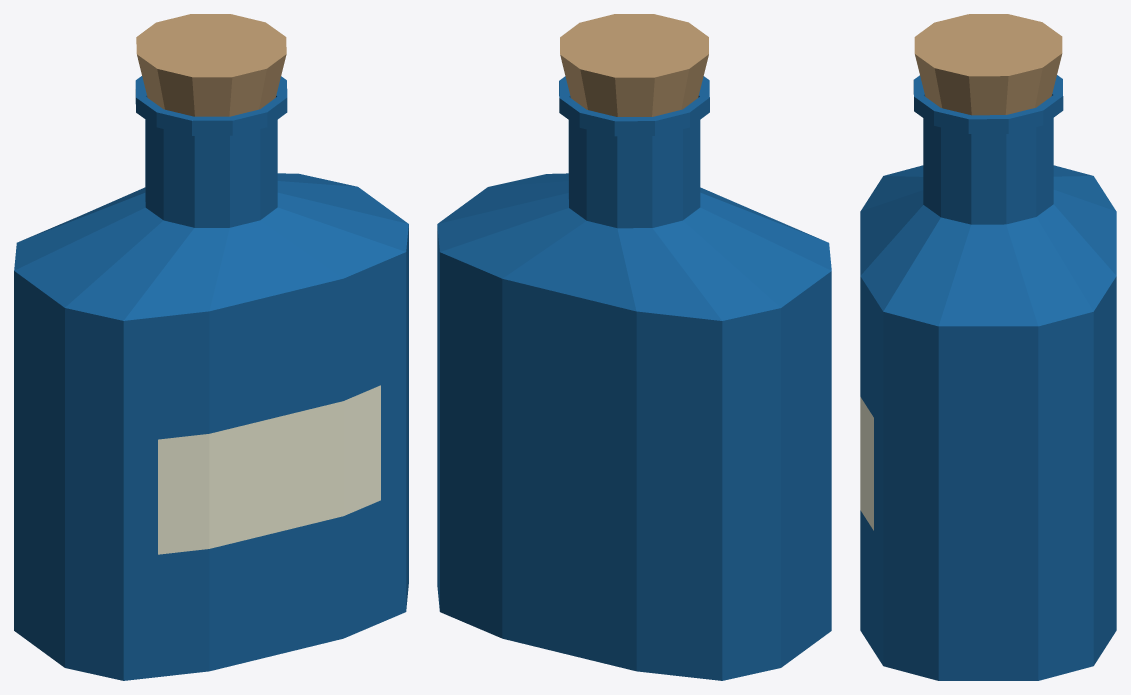
Rendered from potion_blue_1.fbx.
3 renders of one model, left to right at view 1: azimuth 30°, elevation 25°; view 2: azimuth 150°, elevation 25°; view 3: azimuth 270°, elevation 25°, orthographic.
Visible parts, largest first — view 1: potion_blue_1; view 2: potion_blue_1; view 3: potion_blue_1.
Part boxes in pixels (x1,y1,x2,y2): potion_blue_1: (14, 14, 408, 680); potion_blue_1: (437, 14, 831, 680); potion_blue_1: (860, 14, 1116, 680).
Bounding box in the file's own units: 33.79 × 52.72 × 22.13.
